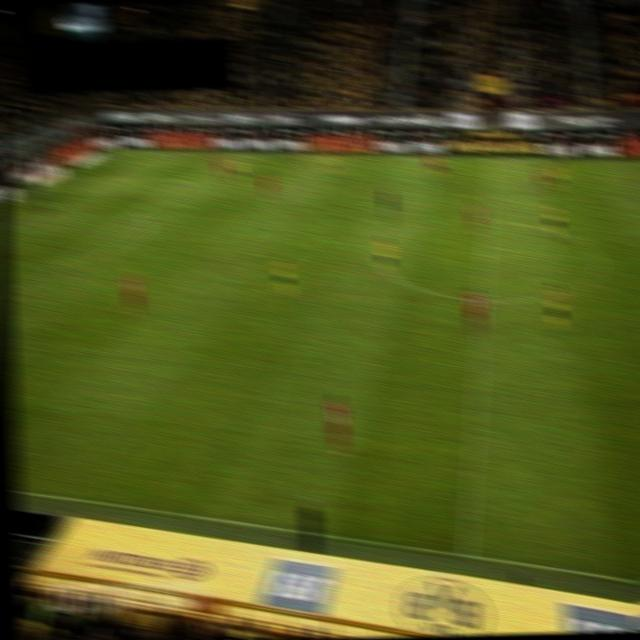bigarea_top_inner: (174, 175, 193, 187)
bigarea_top_outter: (56, 168, 75, 181)
bottom_arc_area_intersection: (48, 258, 67, 270)
corner: (107, 146, 126, 159)
halfcircle_bottom: (473, 291, 493, 307)
halfcircle_top: (477, 214, 499, 228)
midline_bottom_intersection: (455, 546, 477, 563)
midline_top_intersection: (483, 153, 501, 165)
smallarea_top_inner: (43, 197, 63, 209)
smallarea_top_outter: (2, 194, 17, 208)
top_arc_area_intersection: (127, 206, 146, 219)
